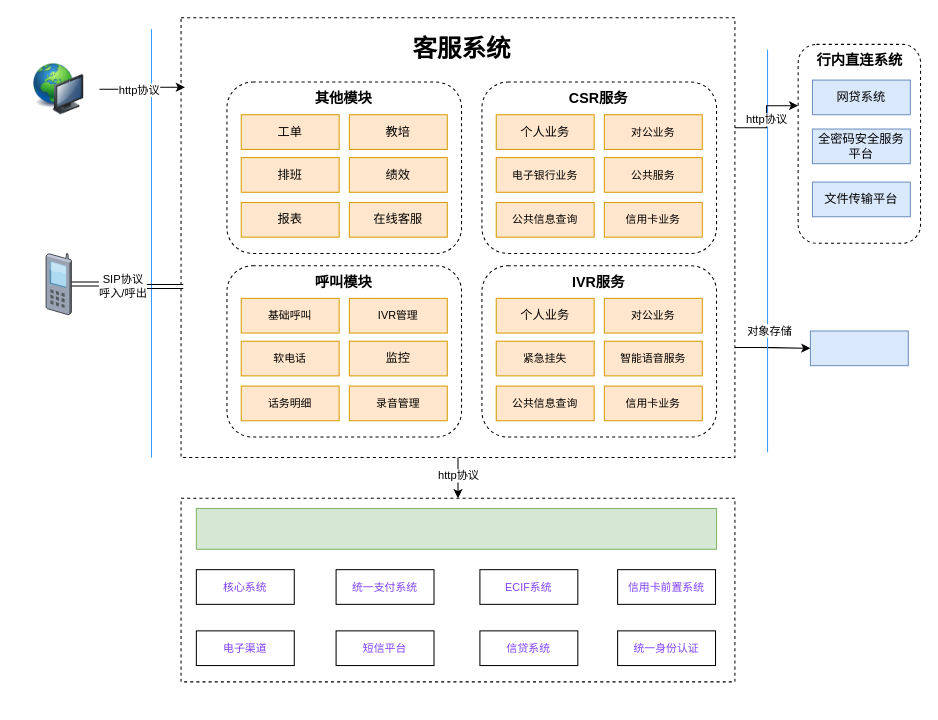
Image size: 938x720. Some labels were removed from this diagram. The centre of each missing label's shape, as x and y in pixels:
坐席: the point at 58,88
数据服务平台: the point at 858,348
海芯ESB: the point at 456,528
